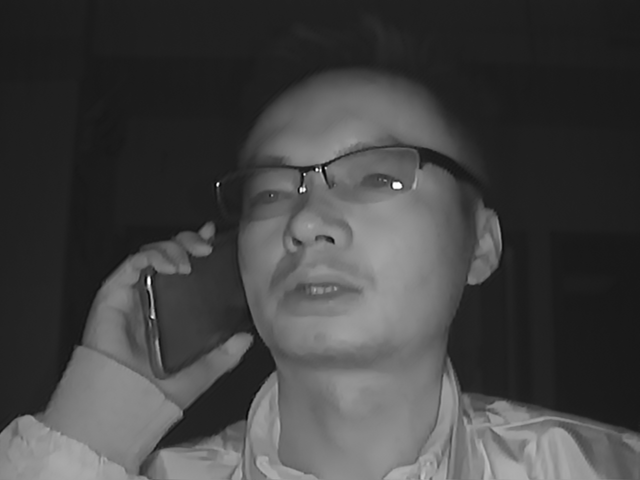hand: (95, 218, 222, 382)
